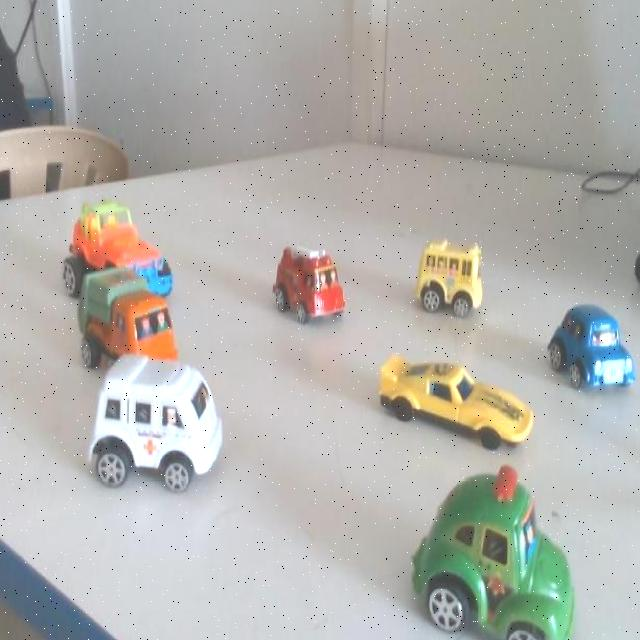car: (101, 332, 251, 516), (442, 478, 587, 640), (394, 343, 525, 463), (94, 191, 184, 306), (102, 257, 174, 384), (409, 233, 498, 335), (270, 230, 348, 342), (563, 300, 638, 398)
